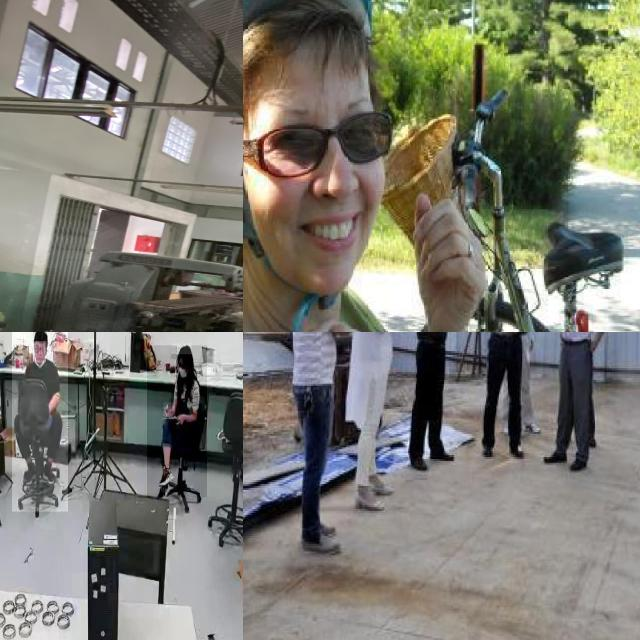face_mask: (177, 354, 193, 378)
face_nomask: (250, 122, 386, 256), (33, 342, 47, 363)
glasses: (243, 108, 394, 182)
hand_noglove: (405, 193, 489, 306), (163, 402, 176, 418), (174, 411, 186, 425)
head_nohelmet: (243, 0, 375, 87), (177, 345, 192, 355), (33, 332, 47, 341)
person: (243, 0, 480, 332), (284, 332, 345, 559), (11, 332, 68, 512), (544, 332, 612, 480), (348, 332, 401, 520), (147, 346, 207, 498), (473, 332, 533, 469), (408, 332, 459, 486)
shoes: (300, 534, 344, 558), (352, 491, 388, 515), (406, 452, 431, 474), (157, 460, 175, 490), (571, 450, 594, 473), (429, 444, 456, 463), (540, 446, 567, 465), (41, 459, 57, 487), (22, 460, 38, 487), (479, 440, 499, 459), (506, 441, 527, 459)
